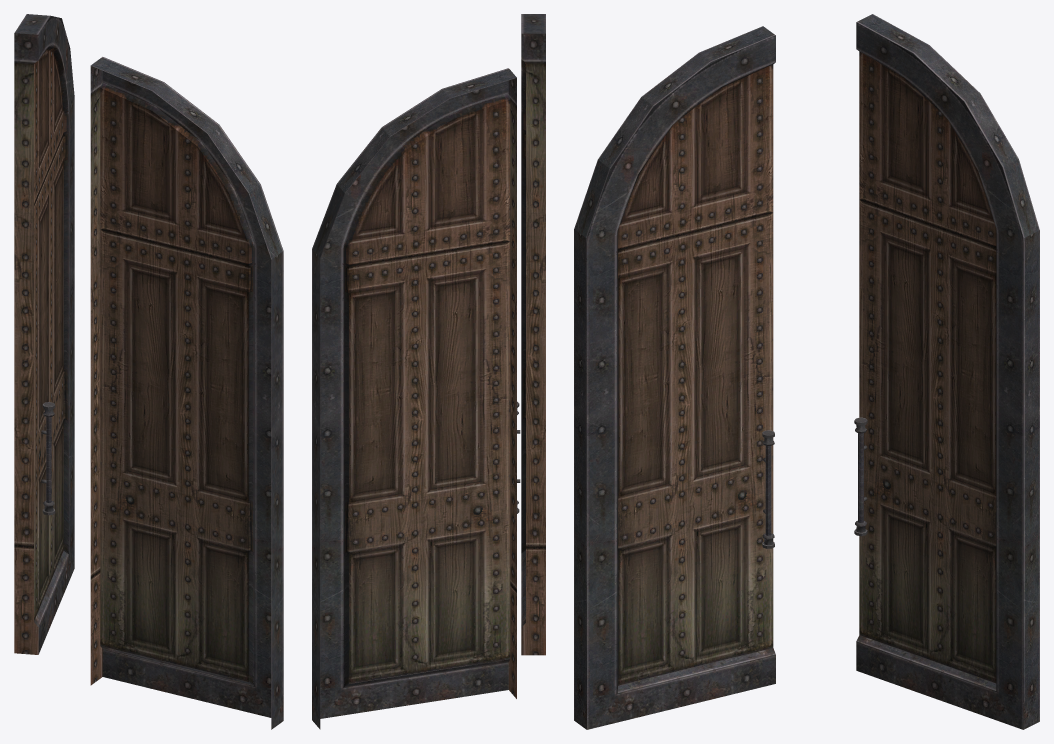
Rendered from bg_lut_lucastle_churchdoor01b_sm_ksh.FBX.
3 renders of one model, left to right at view 1: azimuth 30°, elevation 25°; view 2: azimuth 150°, elevation 25°; view 3: azimuth 270°, elevation 25°, orthographic. The views are drawn at different scales.
Visible parts, largest first — view 1: bg_lut_lucastle_churchdoor01b_sm_ksh; view 2: bg_lut_lucastle_churchdoor01b_sm_ksh; view 3: bg_lut_lucastle_churchdoor01b_sm_ksh.
Boxes of the visible parts, bbox=[...] form: bg_lut_lucastle_churchdoor01b_sm_ksh: bbox=[14, 14, 283, 729]; bg_lut_lucastle_churchdoor01b_sm_ksh: bbox=[312, 14, 545, 729]; bg_lut_lucastle_churchdoor01b_sm_ksh: bbox=[574, 14, 1039, 729].
Bounding box in the file's own units: 122 × 544 × 354.
